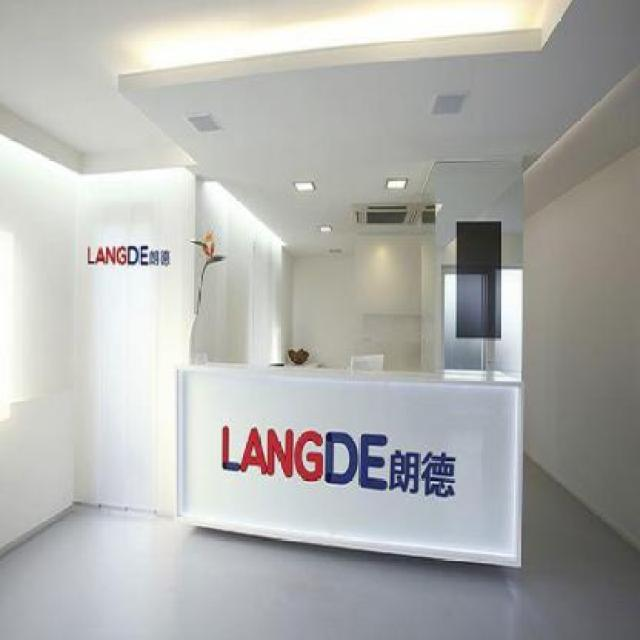frontdesk: (164, 340, 534, 582)
